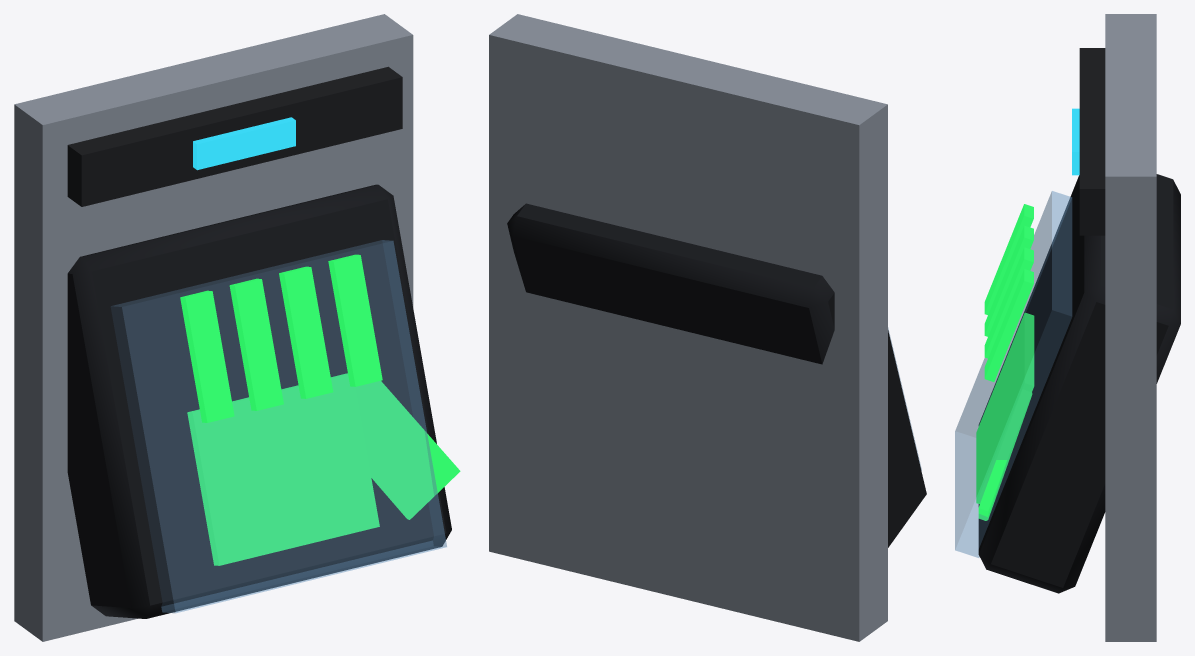
The model's file is camera_palm_scanner.glb.
3 views of the same model, side by side, from view 1: azimuth 30°, elevation 25°; view 2: azimuth 150°, elevation 25°; view 3: azimuth 270°, elevation 25° (orthographic). The views are drawn at different scales.
Visible parts, largest first — view 1: camera_palm_scanner; view 2: camera_palm_scanner; view 3: camera_palm_scanner.
Boxes of the visible parts, left/top/right/bottom form: camera_palm_scanner: left=14, top=14, right=460, bottom=641; camera_palm_scanner: left=489, top=14, right=926, bottom=641; camera_palm_scanner: left=955, top=14, right=1180, bottom=641.
Size of the model in its own units: 0.3 by 0.4 by 0.1758.
